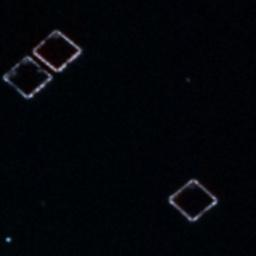square_solid: (28, 26, 84, 78), (164, 170, 220, 222), (2, 53, 55, 101)
